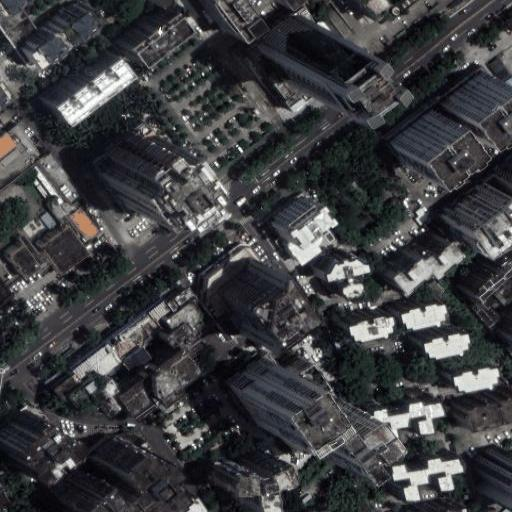building: (72, 299, 168, 385), (53, 434, 158, 512), (102, 130, 184, 214), (247, 44, 342, 110), (38, 42, 118, 112), (118, 351, 200, 417), (234, 266, 303, 335), (255, 13, 324, 81), (235, 357, 301, 425), (388, 111, 454, 174), (17, 4, 89, 61), (440, 73, 505, 136), (453, 183, 512, 243), (457, 233, 512, 293), (372, 441, 445, 486), (220, 451, 283, 503), (115, 0, 175, 52), (33, 154, 82, 211), (353, 386, 429, 422), (472, 433, 512, 498), (448, 380, 512, 416), (288, 399, 332, 451), (304, 385, 350, 433), (70, 377, 125, 417), (41, 231, 88, 277), (272, 191, 320, 234), (307, 243, 353, 284), (373, 241, 417, 281), (10, 238, 47, 283), (26, 168, 63, 212), (199, 0, 244, 34), (164, 318, 202, 355), (405, 317, 454, 345), (147, 483, 193, 512), (408, 227, 446, 262), (434, 352, 483, 379), (382, 288, 429, 316), (331, 300, 377, 326), (163, 300, 200, 331), (68, 210, 99, 244), (270, 223, 306, 252), (46, 207, 78, 237), (50, 369, 82, 399), (463, 292, 491, 322), (164, 286, 195, 313), (411, 495, 459, 512), (121, 346, 148, 372), (493, 301, 512, 337), (158, 385, 185, 408), (495, 57, 512, 83), (299, 25, 317, 46), (292, 494, 313, 512), (40, 214, 58, 233), (46, 368, 65, 385), (415, 206, 431, 224), (38, 254, 52, 270), (502, 338, 512, 359), (478, 505, 496, 512), (283, 478, 294, 489), (454, 506, 474, 512), (496, 504, 510, 512), (415, 216, 424, 226)
